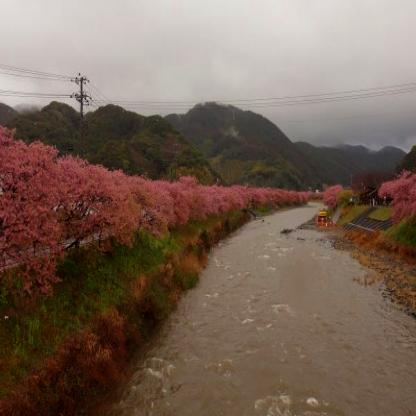KawazuSakura: (0, 118, 133, 300), (9, 176, 309, 223), (375, 162, 415, 234), (318, 176, 343, 212)
